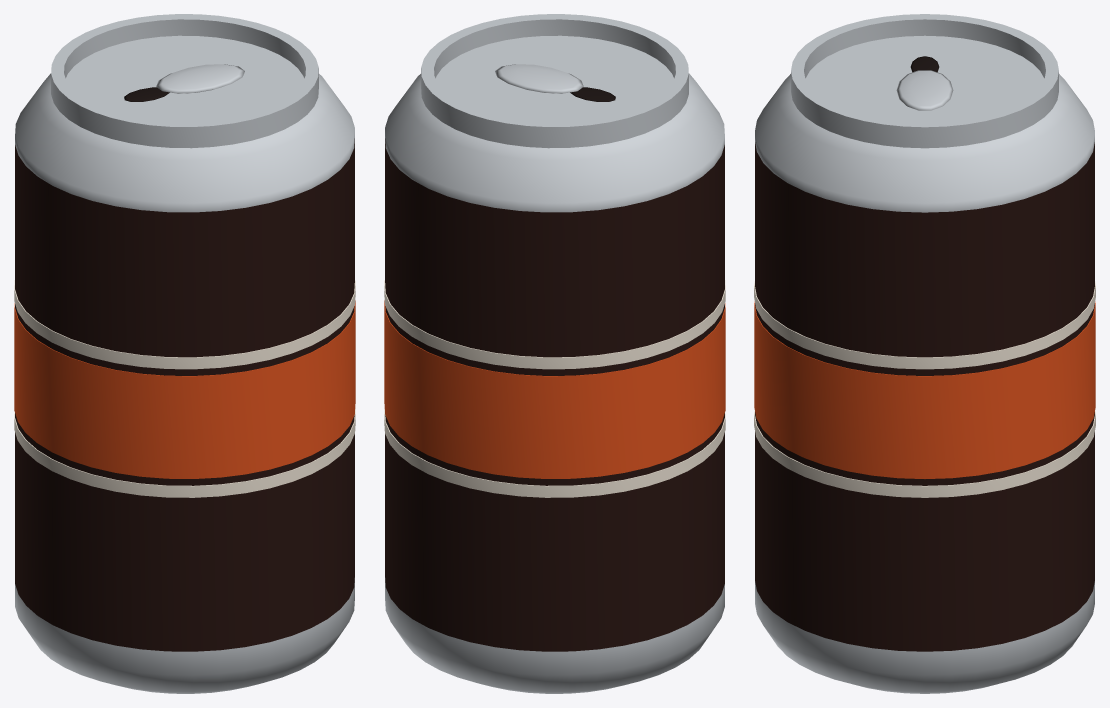
The model's file is refrigerante.glb.
3 views of the same model, side by side, from view 1: azimuth 30°, elevation 25°; view 2: azimuth 150°, elevation 25°; view 3: azimuth 270°, elevation 25° (orthographic).
Parts seen in each view (by area): view 1: refrigerante; view 2: refrigerante; view 3: refrigerante.
Boxes of the visible parts, x1,y1,x2,y2 form: refrigerante: (14,14,355,693); refrigerante: (384,14,725,693); refrigerante: (754,14,1095,693).
Bounding box in the file's own units: 0.0663 × 0.122 × 0.0663.
